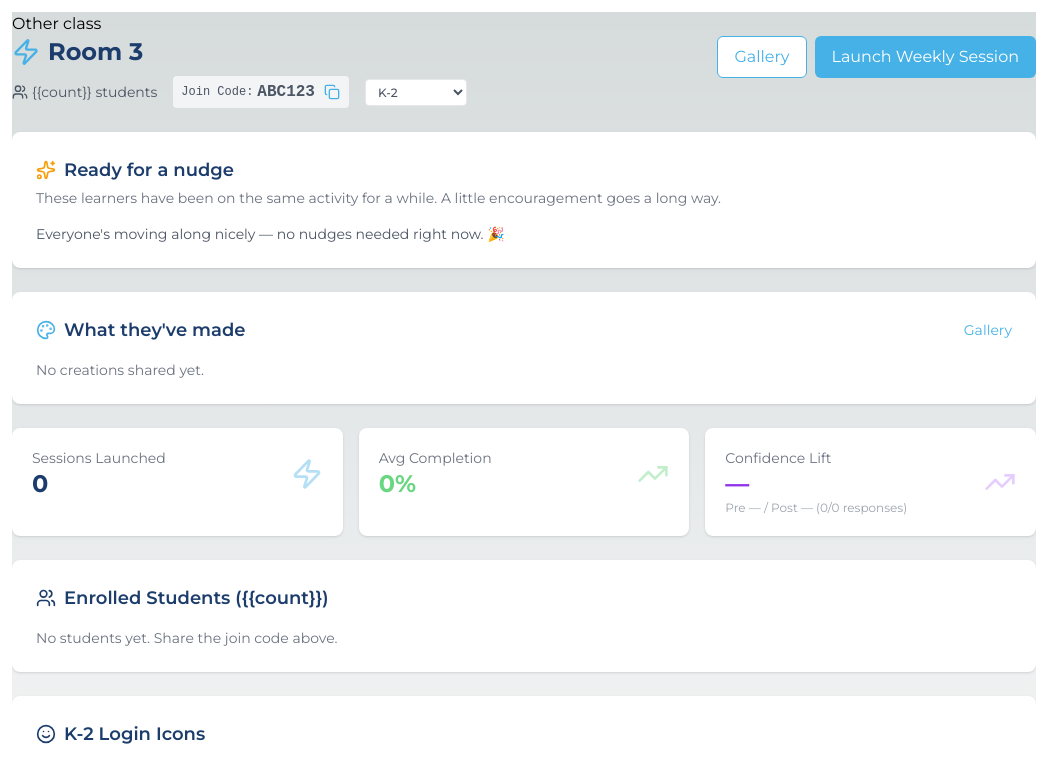
Test case: confirmed grade-band changes (#903) › serializes repeated input and uses the response band, not the requested band
Select "Grades 3-5" in the dropdown. click: (416, 92)
box: left=365, top=78, right=467, bottom=106
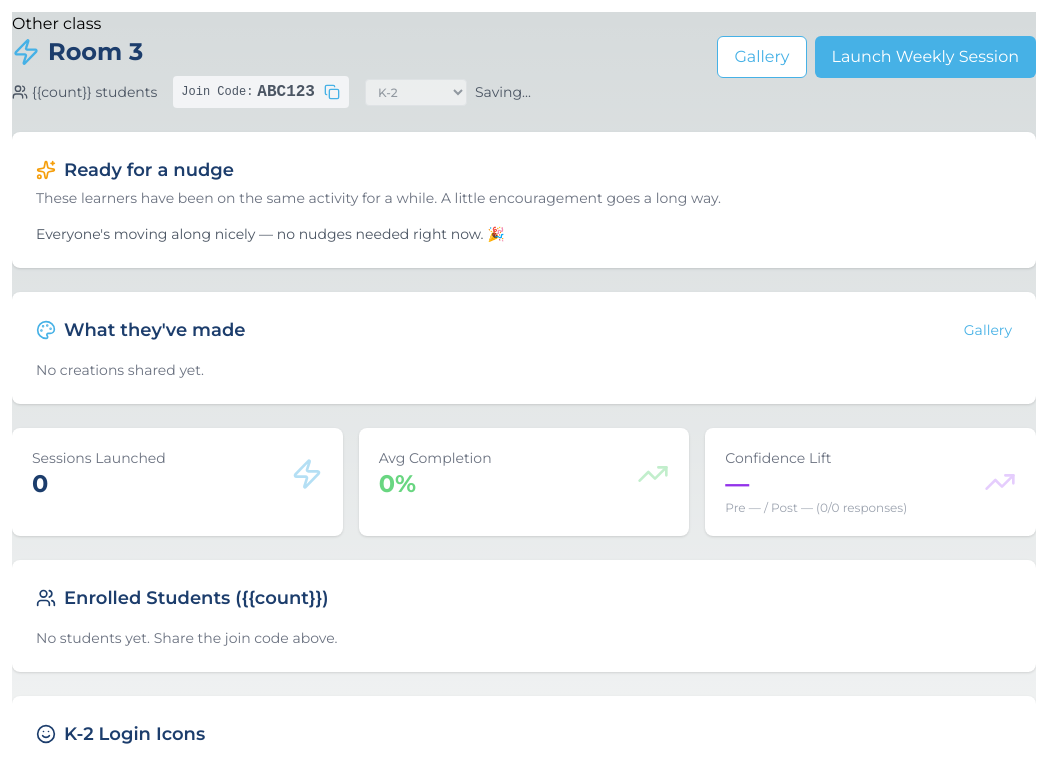
Check: the dropdown is disabled
Select "K-2" in the dropdown. click: (416, 92)
box: left=365, top=78, right=467, bottom=106
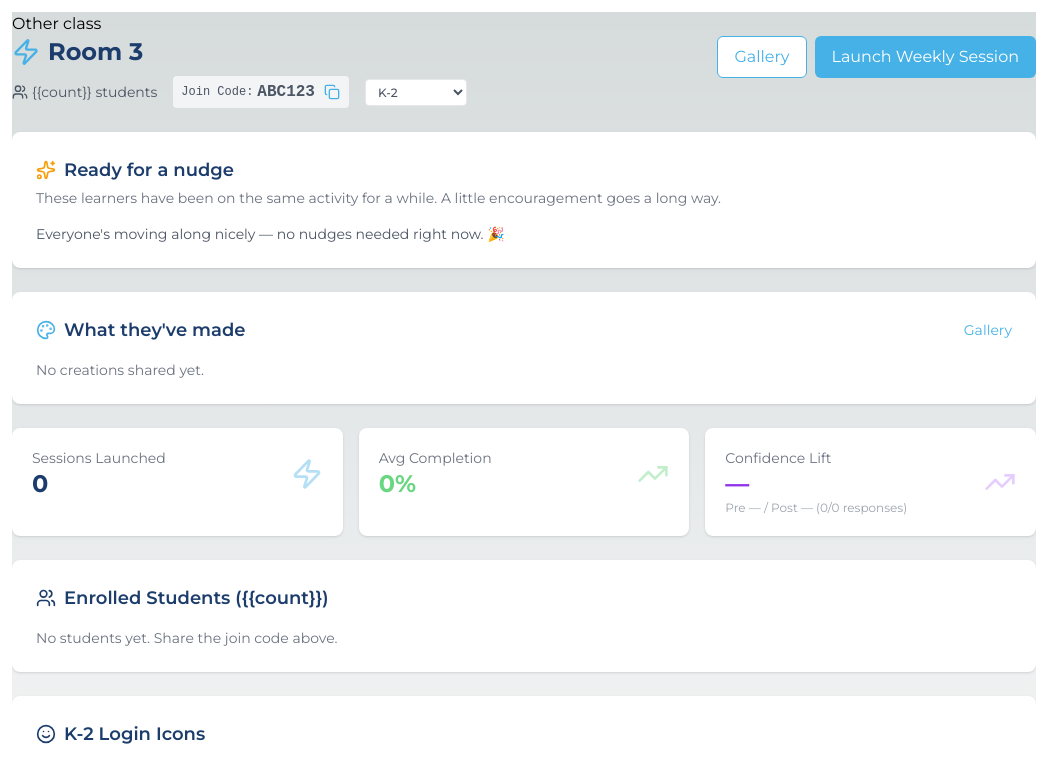
Check: the dropdown is enabled, box left=365, top=78, right=467, bottom=106
